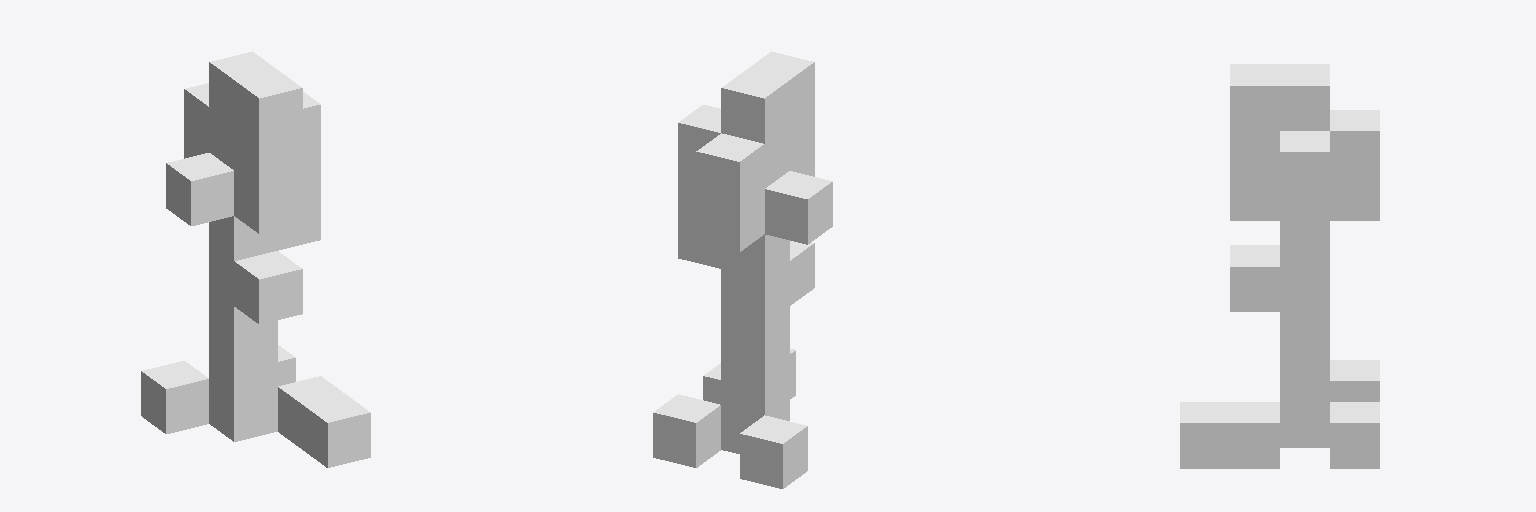
Rendered from flower_001.obj.
3 renders of one model, left to right at view 1: azimuth 30°, elevation 25°; view 2: azimuth 150°, elevation 25°; view 3: azimuth 270°, elevation 25°, orthographic.
Parts seen in each view (by area): view 1: object 1; view 2: object 1; view 3: object 1.
Boxes of the visible parts, box(x1,y1,x2,y2) form: object 1: box(141, 51, 370, 467); object 1: box(653, 51, 832, 488); object 1: box(1180, 64, 1379, 468).
Bounding box in the file's own units: 0.3 × 0.8 × 0.4.